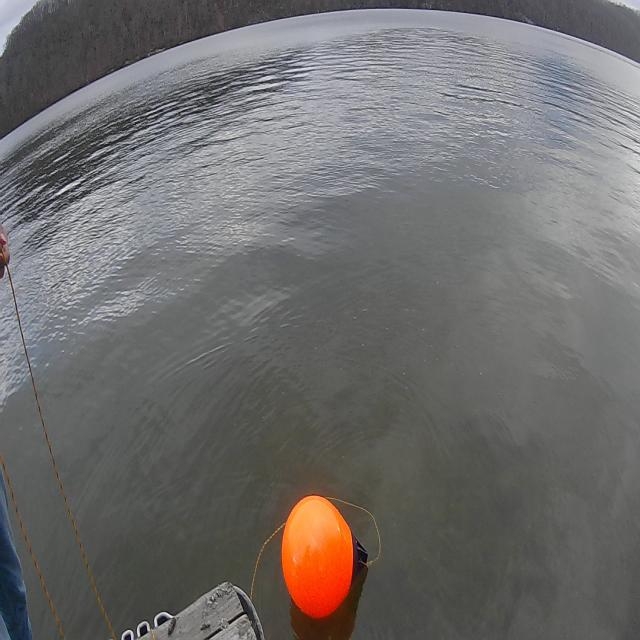Buoy: (280, 489, 375, 625)
